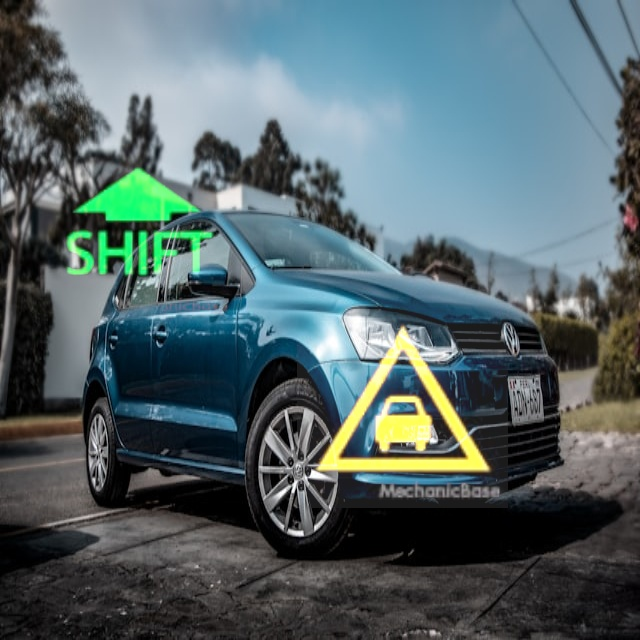symbol: (297, 297, 508, 508), (42, 128, 235, 321)
